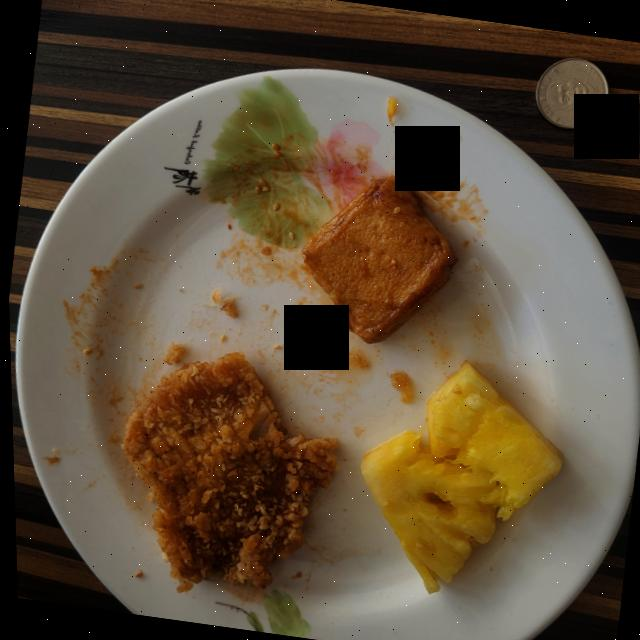coin: (535, 57, 608, 128)
creamy tofu: (300, 175, 457, 343)
fried chicken cutlet: (119, 352, 334, 591)
pineapple: (358, 360, 560, 592)
